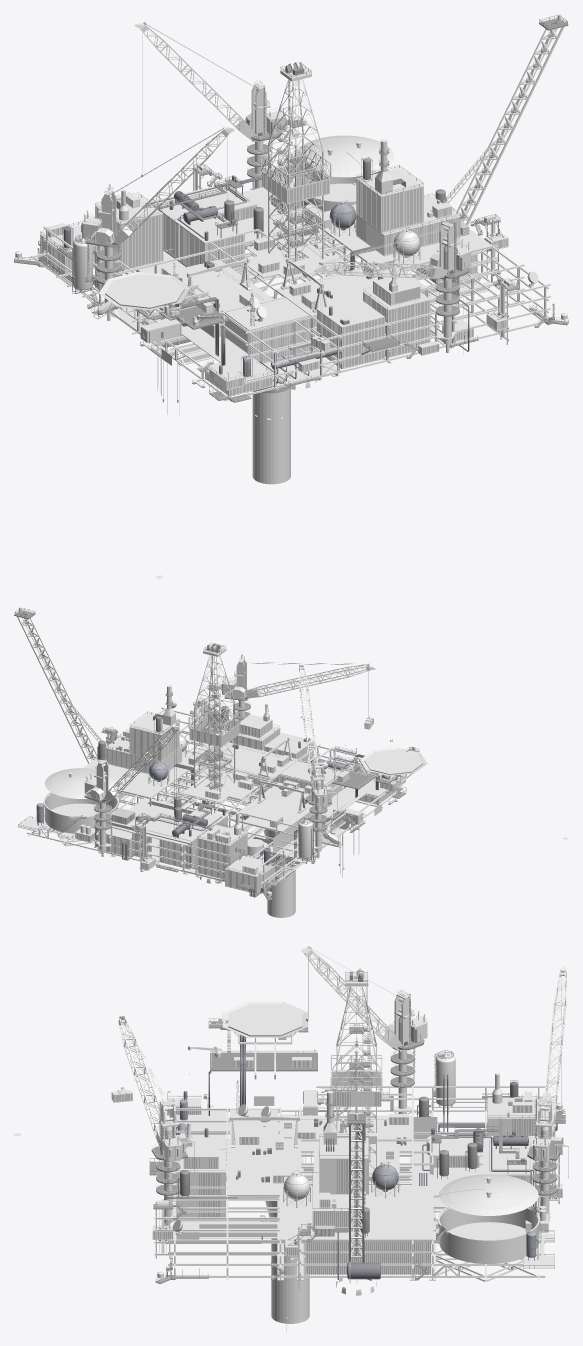
File: oilrig.glb
The picture shows the model from 3 angles, top to bottom: view 1: azimuth 30°, elevation 25°; view 2: azimuth 150°, elevation 25°; view 3: azimuth 270°, elevation 25°; orthographic projection. The views are drawn at different scales.
Parts seen in each view (by area): view 1: piastre, travi_x, travi_y, pila, contenitore.001, locale.008, locale.006, gru.001, coperchio, locale.002, esausto_1.001, locale.005 (+29 smaller); view 2: piastre, travi_x, travi_y, locale.008, locale.002, esausto_1.001, gru.000, Derrik_1, gru.003, coperchio, pila, locale.011 (+31 smaller); view 3: piastre, travi_y, coperchio, serbatoio_principale.001, contenitore.002, gru.003, pila, travi_principali, gru.001, gru.000, locale.008, elisuperficie (+31 smaller).
Part boxes in pixels (left/top/right/bottom): piastre: left=97, top=186, right=492, bottom=387; travi_x: left=29, top=196, right=550, bottom=401; travi_y: left=43, top=182, right=548, bottom=402; pila: left=252, top=361, right=290, bottom=484; contenitore.001: left=225, top=298, right=316, bottom=363; locale.008: left=356, top=168, right=423, bottom=232; locale.006: left=317, top=299, right=384, bottom=369; gru.001: left=429, top=218, right=471, bottom=352; coperchio: left=297, top=135, right=393, bottom=177; locale.002: left=95, top=195, right=163, bottom=271; esausto_1.001: left=456, top=24, right=564, bottom=225; locale.005: left=363, top=289, right=430, bottom=357; piastre: left=83, top=742, right=371, bottom=880; travi_x: left=27, top=707, right=397, bottom=885; travi_y: left=28, top=707, right=400, bottom=893; locale.008: left=129, top=714, right=179, bottom=761; locale.002: left=197, top=825, right=247, bottom=878; esausto_1.001: left=17, top=614, right=97, bottom=763; gru.000: left=84, top=756, right=111, bottom=856; Derrik_1: left=194, top=697, right=235, bottom=791; gru.003: left=306, top=760, right=338, bottom=858; coperchio: left=44, top=768, right=117, bottom=798; pila: left=263, top=829, right=295, bottom=917; locale.011: left=132, top=830, right=207, bottom=869; piastre: left=175, top=1115, right=540, bottom=1240; travi_y: left=154, top=1086, right=559, bottom=1277; coperchio: left=439, top=1174, right=538, bottom=1215; serbatoio_principale.001: left=439, top=1208, right=538, bottom=1263; contenitore.002: left=305, top=1242, right=430, bottom=1274; gru.003: left=385, top=990, right=427, bottom=1113; pila: left=265, top=1182, right=312, bottom=1323; travi_principali: left=175, top=1153, right=532, bottom=1280; gru.001: left=151, top=1098, right=195, bottom=1225; gru.000: left=527, top=1099, right=568, bottom=1222; locale.008: left=319, top=1137, right=368, bottom=1194; elisuperficie: left=228, top=1004, right=302, bottom=1036.
Bounding box in the file's own units: 201 × 124 × 168.
Materials: 36 (1 with a texture image).
